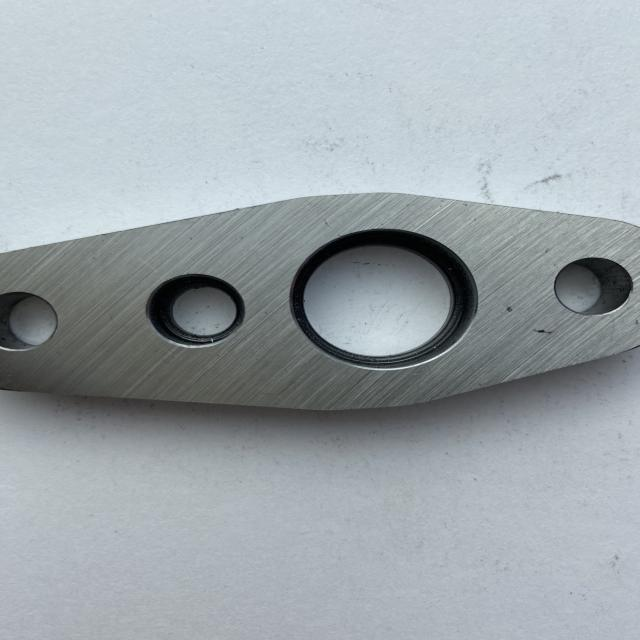chap: (322, 218, 332, 230), (334, 232, 342, 239)
lines: (529, 327, 559, 337), (503, 303, 514, 318)
